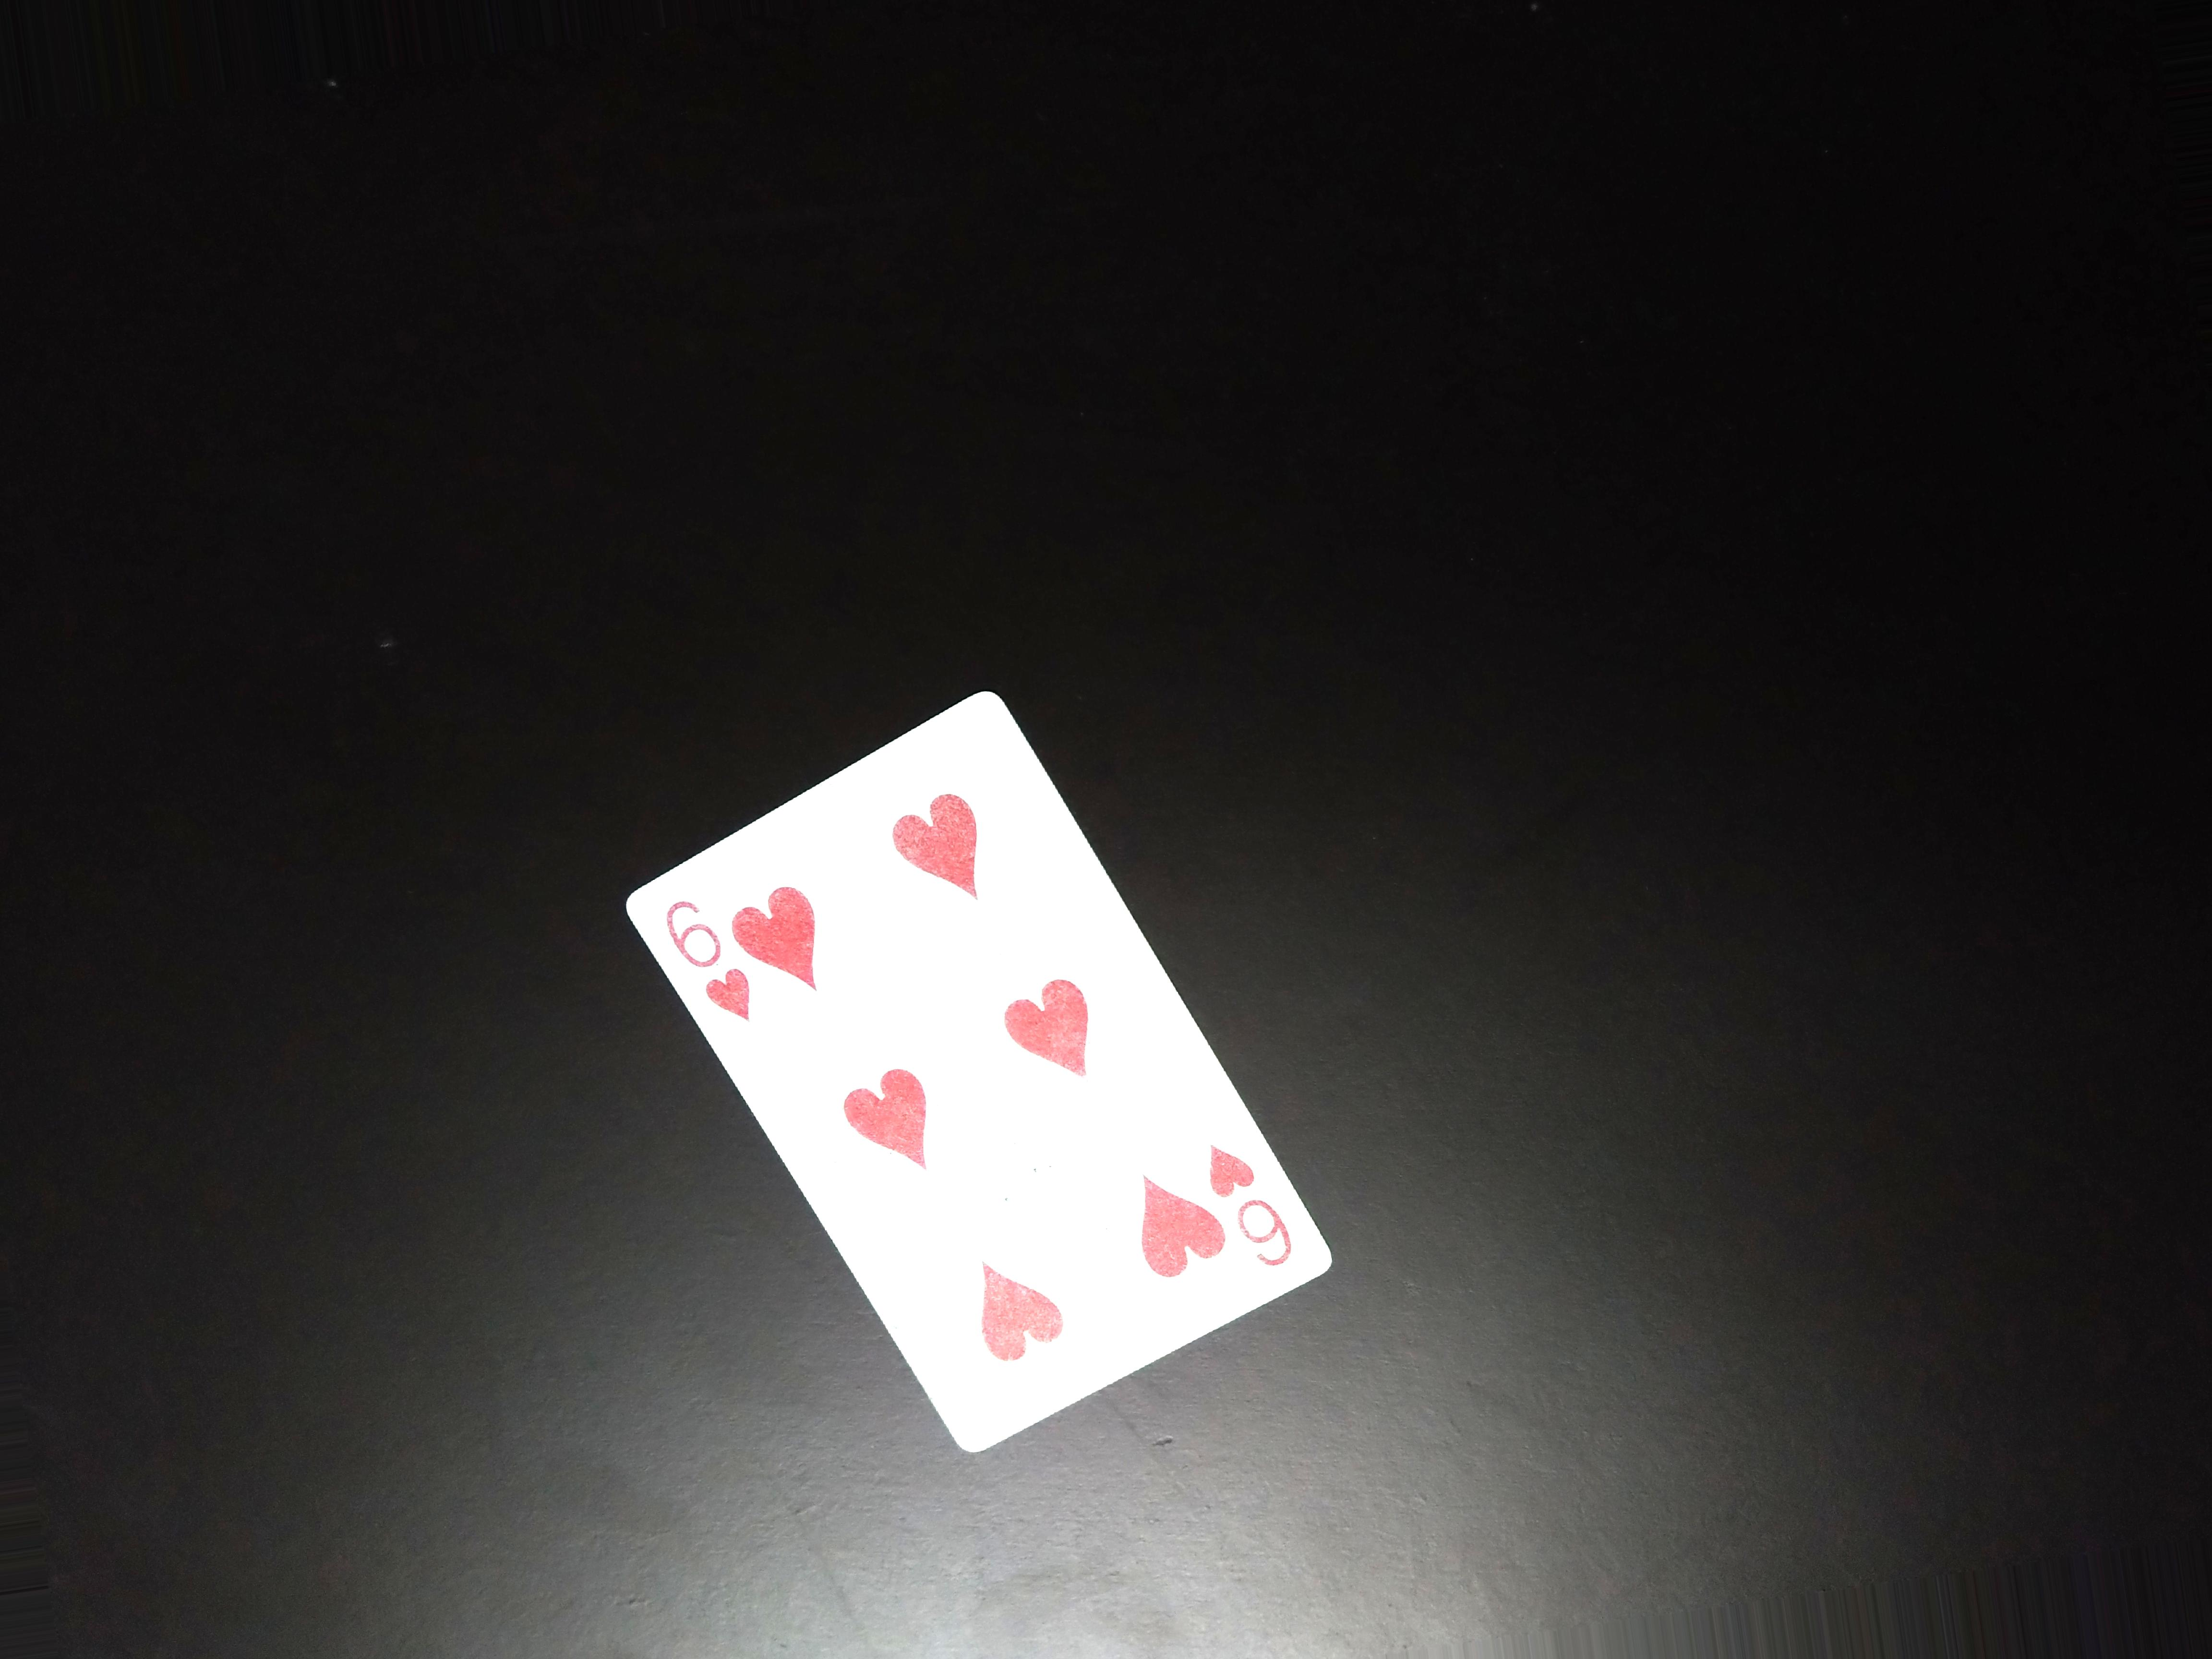6H: (1202, 1134, 1303, 1300)
